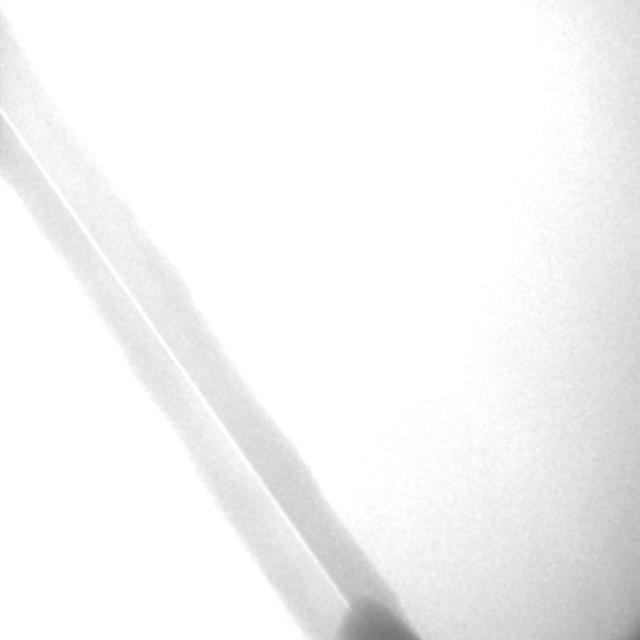broken arc: (2, 110, 353, 613)
